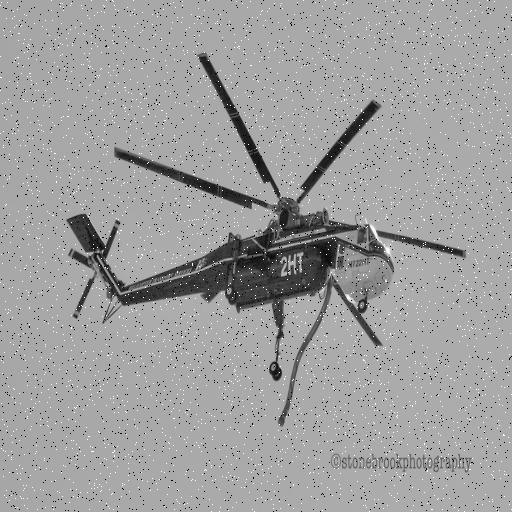helicopter: (44, 59, 482, 439)
